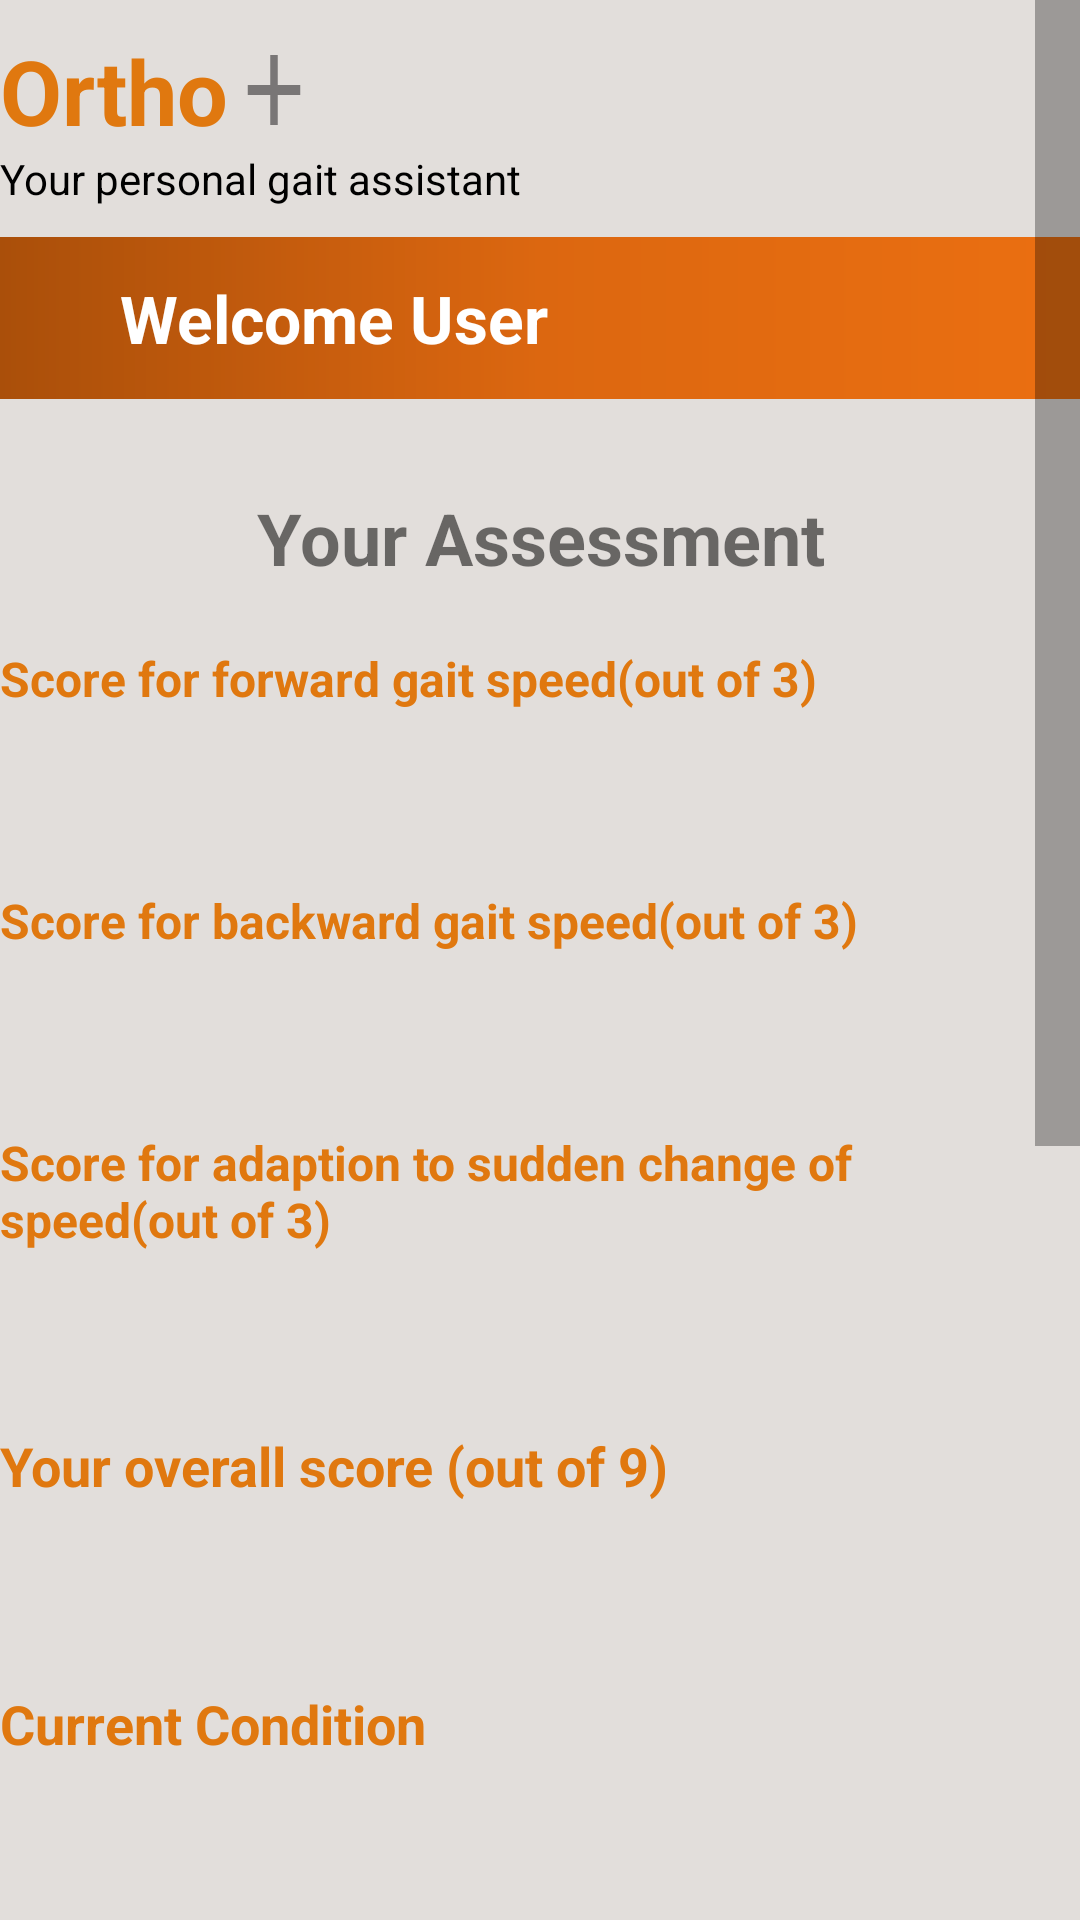

Icon click points for this 1080x1920 phone screenshot, format (x=x, y=y):
add: (x=274, y=90)
